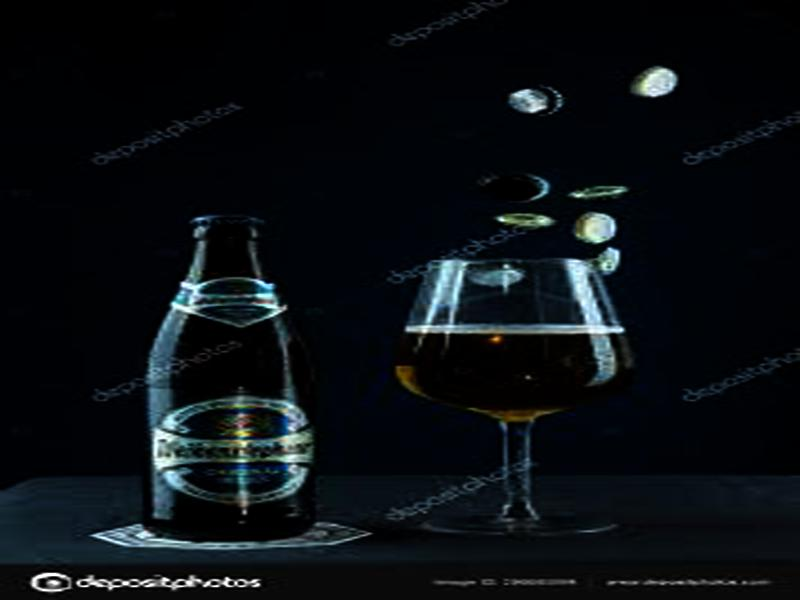Beer: (148, 218, 310, 537)
